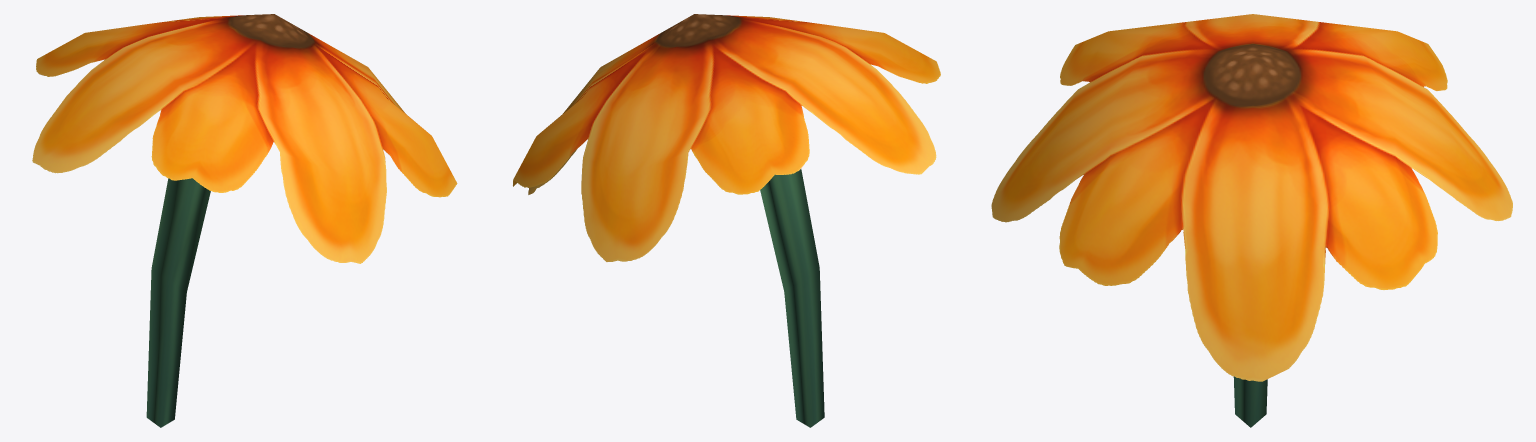
File: Flower_01.FBX
3 views of the same model, side by side, from view 1: azimuth 30°, elevation 25°; view 2: azimuth 150°, elevation 25°; view 3: azimuth 270°, elevation 25° (orthographic). The views are drawn at different scales.
Parts seen in each view (by area): view 1: Flower - Yellow; view 2: Flower - Yellow; view 3: Flower - Yellow.
Part boxes in pixels (box(x1,y1,x2,y2)): Flower - Yellow: box(32, 14, 457, 427); Flower - Yellow: box(513, 14, 940, 427); Flower - Yellow: box(991, 14, 1512, 427).
Size of the model in its own units: 23.44 by 21.11 by 24.27.
Materials: 1 (1 with a texture image).
